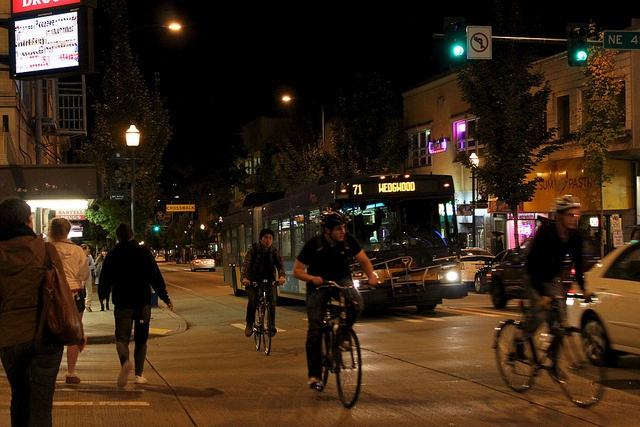non-vehicle: (491, 282, 608, 409), (311, 279, 361, 409), (253, 279, 274, 355)
